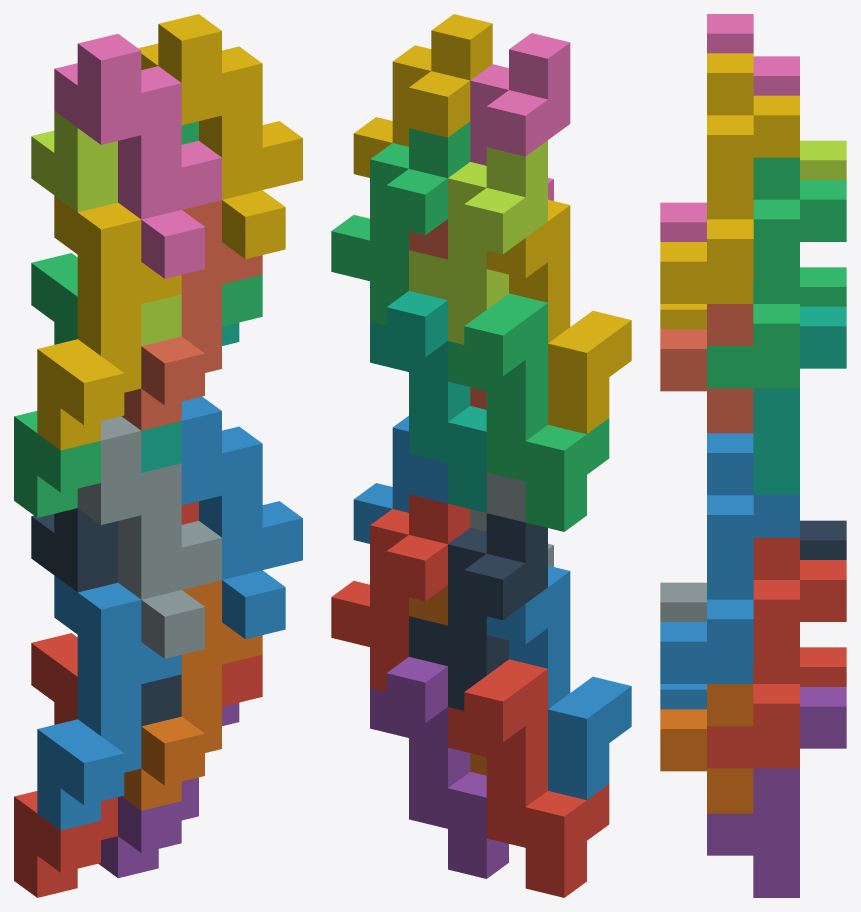
Rendered from tiling.obj.
The picture shows the model from 3 angles, left to right: view 1: azimuth 30°, elevation 25°; view 2: azimuth 150°, elevation 25°; view 3: azimuth 270°, elevation 25°; orthographic projection. The views are drawn at different scales.
Visible parts, largest first — view 1: copy_2_domain_4, copy_1_domain_4, copy_1_domain_2, copy_2_domain_8, copy_2_domain_2, copy_2_domain_6, copy_1_domain_8, copy_1_domain_6, copy_1_domain_1, copy_1_domain_3, copy_2_domain_3, copy_2_domain_1 (+4 smaller); view 2: copy_1_domain_1, copy_1_domain_3, copy_2_domain_3, copy_2_domain_1, copy_1_domain_5, copy_1_domain_2, copy_1_domain_4, copy_2_domain_7, copy_1_domain_7, copy_2_domain_5, copy_2_domain_8, copy_2_domain_4 (+4 smaller); view 3: copy_2_domain_8, copy_2_domain_6, copy_2_domain_5, copy_2_domain_7, copy_1_domain_5, copy_1_domain_7, copy_1_domain_6, copy_1_domain_8, copy_2_domain_4, copy_1_domain_1, copy_1_domain_3, copy_2_domain_1 (+4 smaller).
Boxes of the visible parts, box(x1,y1,x2,y2) form: copy_2_domain_4: box(54, 34, 221, 278); copy_1_domain_4: box(37, 195, 181, 450); copy_1_domain_2: box(37, 575, 181, 830); copy_2_domain_8: box(138, 14, 302, 259); copy_2_domain_2: box(77, 416, 221, 658); copy_2_domain_6: box(181, 396, 302, 639); copy_1_domain_8: box(122, 200, 262, 430); copy_1_domain_6: box(122, 580, 262, 810); copy_1_domain_1: box(14, 633, 117, 897); copy_1_domain_3: box(14, 253, 100, 517); copy_2_domain_3: box(31, 111, 181, 346); copy_2_domain_1: box(31, 508, 181, 726); copy_1_domain_1: box(448, 659, 609, 897); copy_1_domain_3: box(448, 293, 609, 531); copy_2_domain_3: box(409, 140, 547, 344); copy_2_domain_1: box(409, 513, 547, 710); copy_1_domain_5: box(370, 657, 508, 878); copy_1_domain_2: box(486, 565, 631, 800); copy_1_domain_4: box(486, 199, 631, 434); copy_2_domain_7: box(331, 121, 470, 325); copy_1_domain_7: box(370, 291, 486, 512); copy_2_domain_5: box(331, 494, 470, 691); copy_2_domain_8: box(353, 14, 492, 177); copy_2_domain_4: box(470, 33, 570, 200); copy_2_domain_8: box(660, 53, 799, 303); copy_2_domain_6: box(660, 433, 799, 683); copy_2_domain_5: box(707, 537, 846, 768); copy_2_domain_7: box(707, 157, 846, 388); copy_1_domain_5: box(707, 687, 846, 897); copy_1_domain_7: box(753, 306, 846, 495); copy_1_domain_6: box(660, 684, 753, 813); copy_1_domain_8: box(660, 304, 753, 433); copy_2_domain_4: box(660, 14, 799, 241); copy_1_domain_1: box(800, 647, 846, 686); copy_1_domain_3: box(800, 267, 846, 306); copy_2_domain_1: box(800, 520, 846, 559).
Size of the model in its own units: 6 by 20 by 4.
